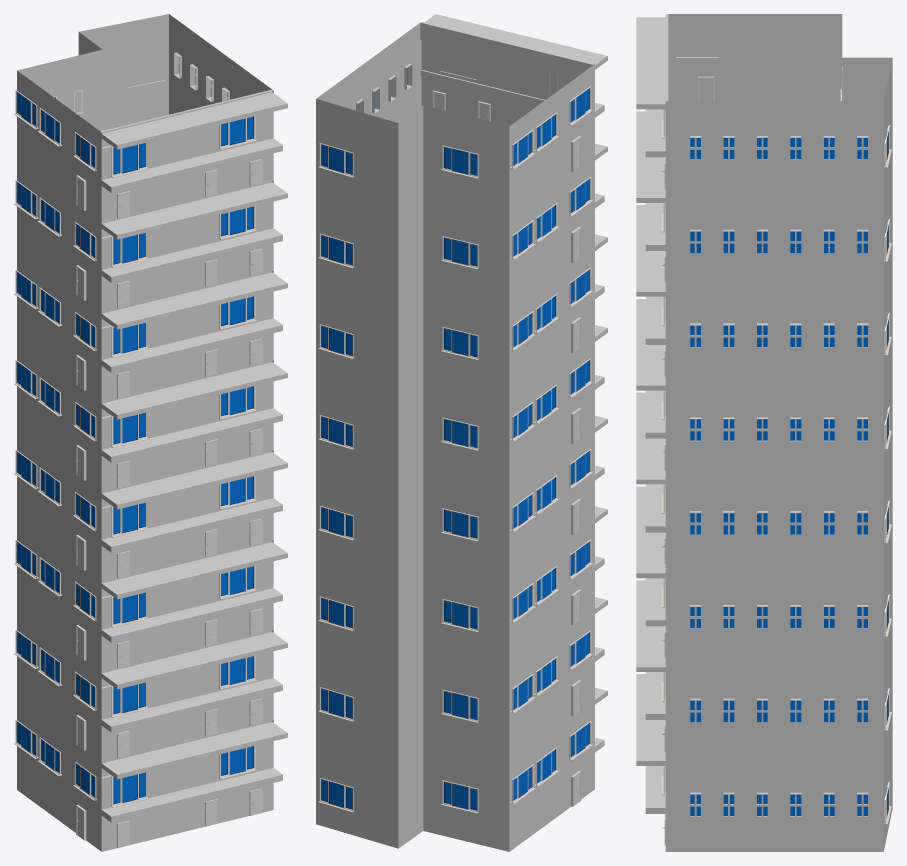
Rendered from solene immeuble04____.fbx.
3 renders of one model, left to right at view 1: azimuth 30°, elevation 25°; view 2: azimuth 150°, elevation 25°; view 3: azimuth 270°, elevation 25°, orthographic. The views are drawn at different scales.
Visible parts, largest first — view 1: Plane; view 2: Plane; view 3: Plane.
Part boxes in pixels (x1,y1,x2,y2): Plane: (14, 14, 287, 851); Plane: (316, 14, 607, 851); Plane: (636, 14, 892, 851).
Size of the model in its own units: 209 by 800 by 248.
